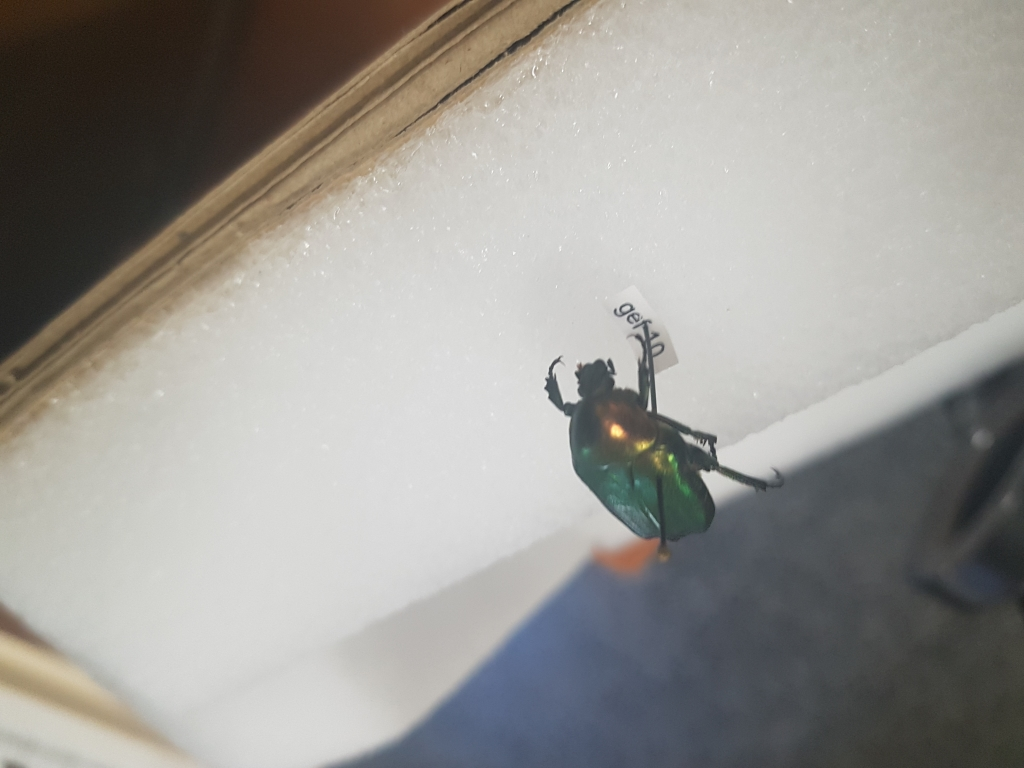Cetonia_aurata: (538, 345, 794, 571)
